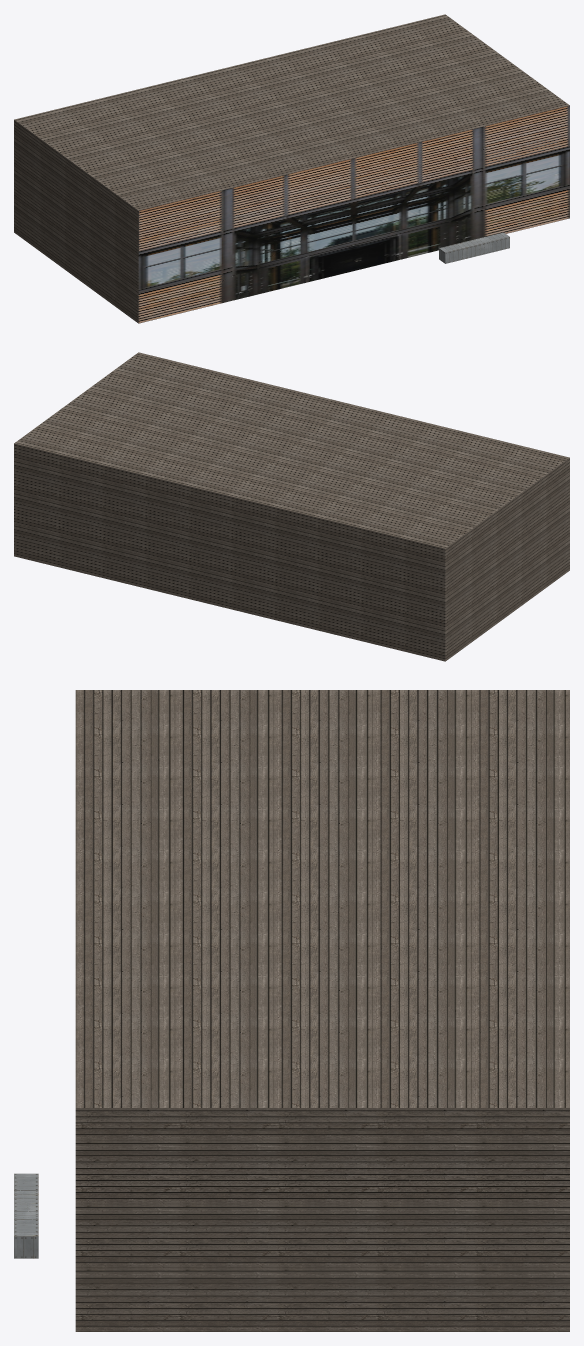
Rendered from greenway-station_lod0.gltf.
3 renders of one model, top to bottom at view 1: azimuth 30°, elevation 25°; view 2: azimuth 150°, elevation 25°; view 3: azimuth 270°, elevation 25°, orthographic. The views are drawn at different scales.
Parts seen in each view (by area): view 1: greenway-station_main, greenway-station_front, greenway-station__bike_racks; view 2: greenway-station_main; view 3: greenway-station_main, greenway-station__bike_racks.
Part boxes in pixels (<box>): greenway-station_main: <box>14,14,569,323</box>; greenway-station_front: <box>138,105,569,323</box>; greenway-station__bike_racks: <box>439,232,509,263</box>; greenway-station_main: <box>14,352,569,661</box>; greenway-station_main: <box>75,690,569,1331</box>; greenway-station__bike_racks: <box>14,1173,38,1258</box>.
Bounding box in the file's own units: 40 × 10 × 22.5.
